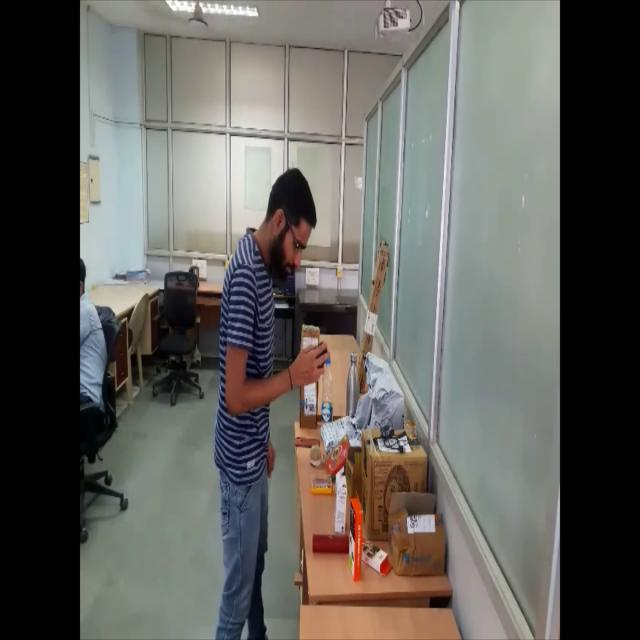normal: (211, 165, 330, 639)
